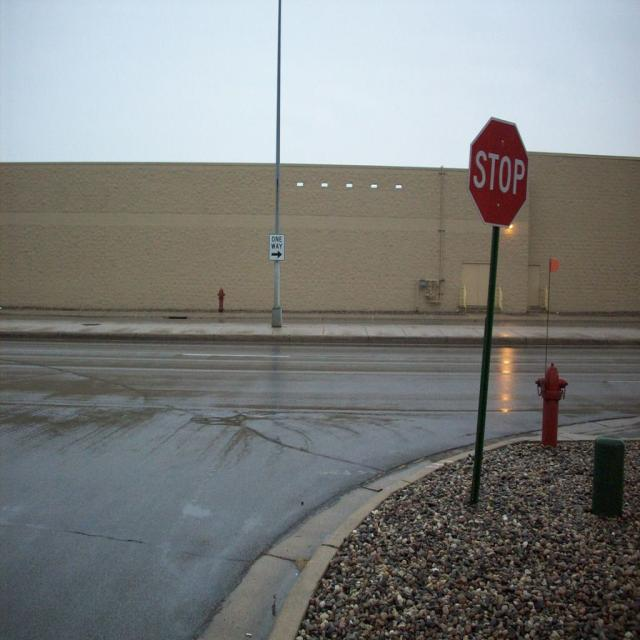Stop-sign: (466, 115, 530, 228)
